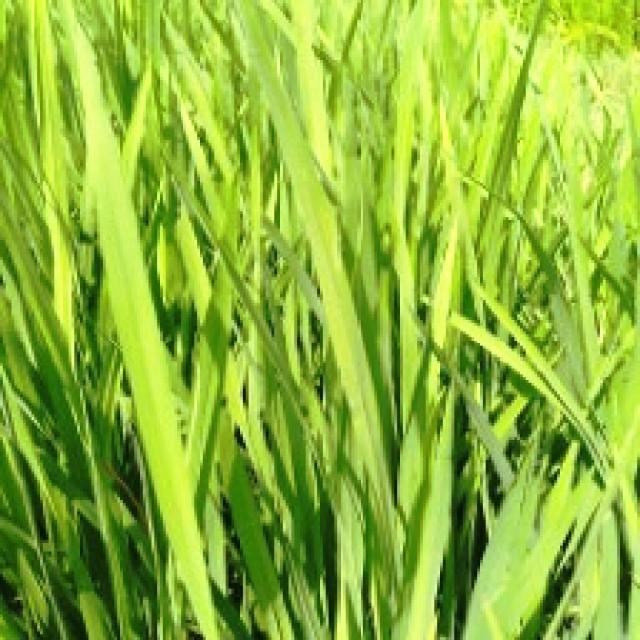health: (63, 0, 452, 640)
